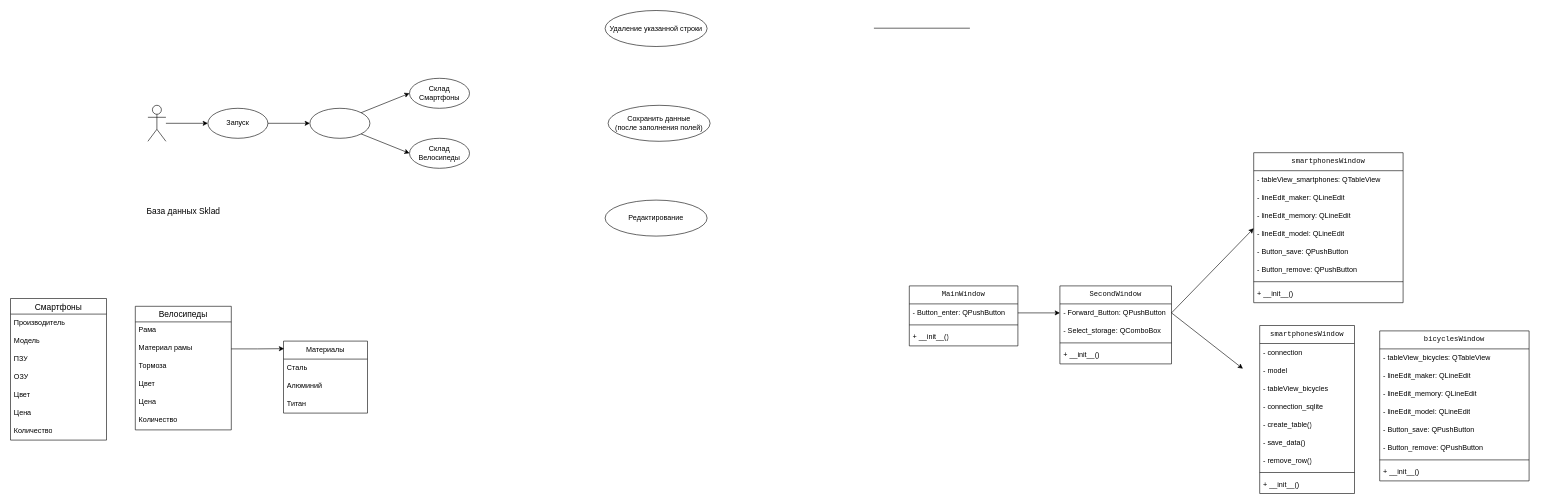
This 1544x504 diagram has some shape labels left out. Here are the shapes that lost their labels. From the top down, the centre of each, then its label:
pixel 156 123: Пользователь
pixel 339 123: Выбор склада
